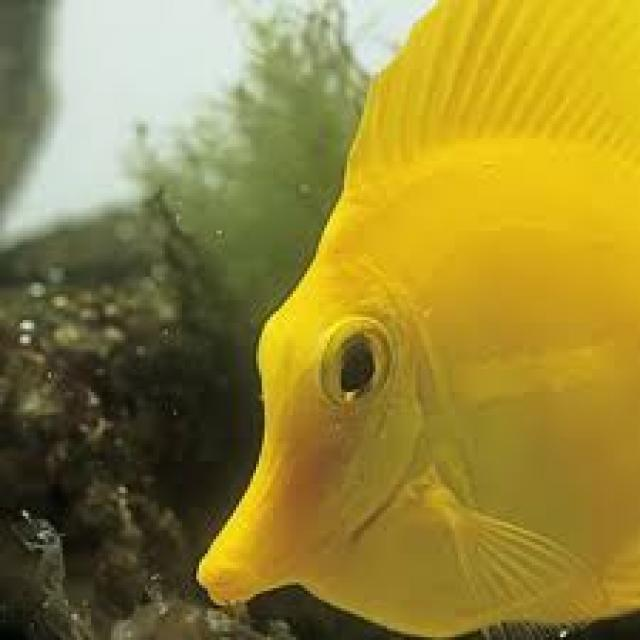YellowTang: (148, 11, 640, 640)
